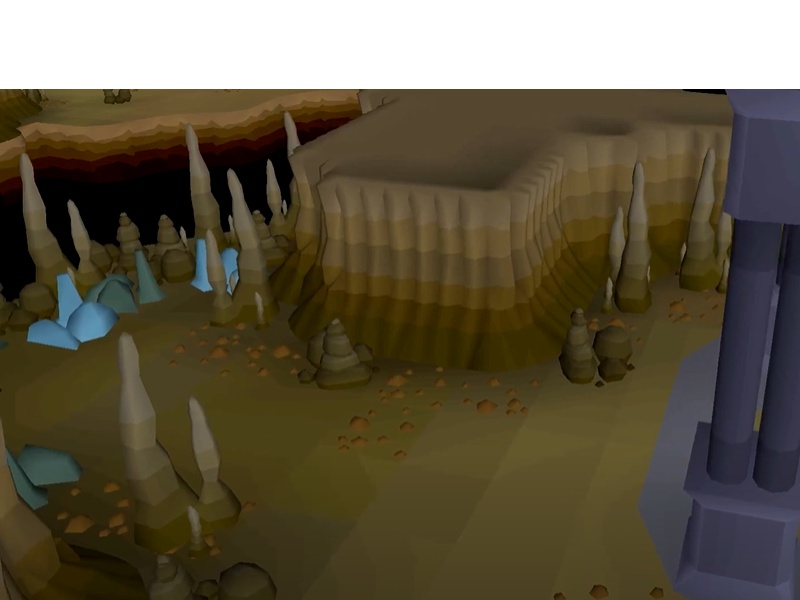adamant: (82, 247, 169, 318), (4, 440, 86, 513)
rune: (24, 268, 122, 354), (186, 230, 241, 296)
